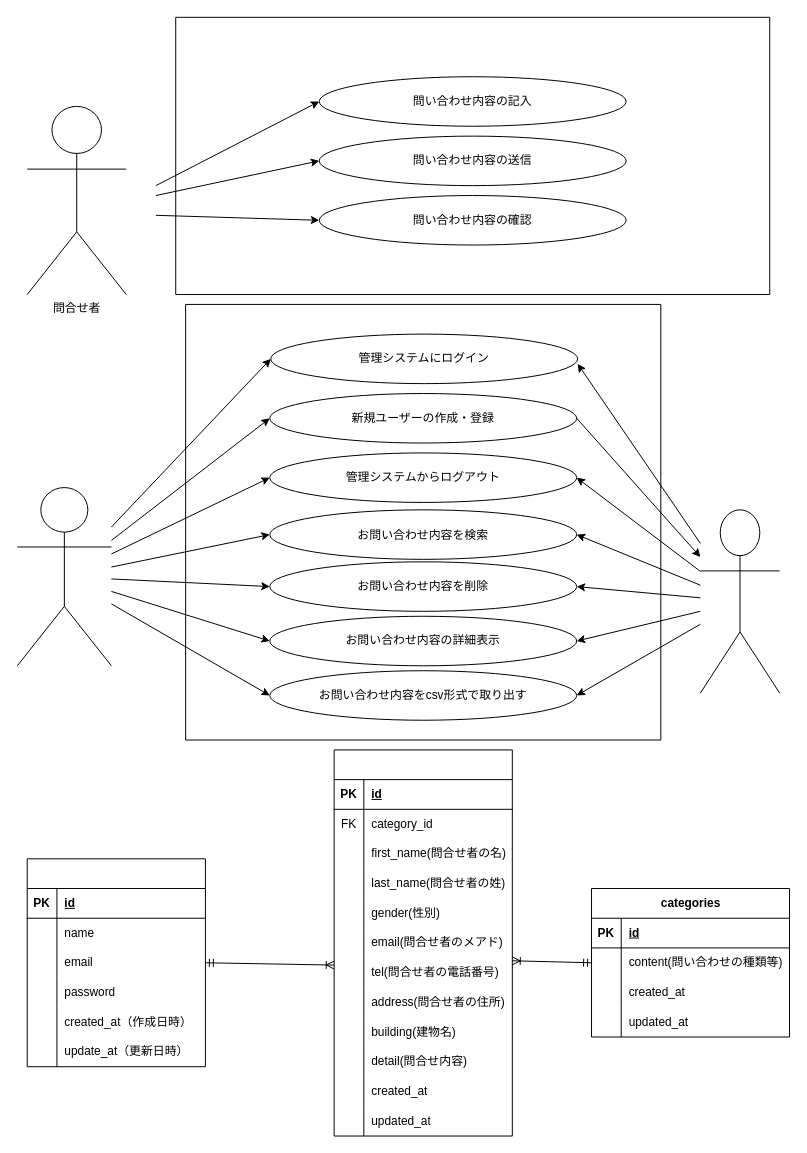
Image size: 807x1153. Some labels were removed from this diagram. The box of each missing label's shape, as (x1, y1, x2, y2) in pixels:
contacts: (333, 749, 512, 1136)
users: (26, 858, 205, 1067)
ユーザー: (16, 487, 111, 666)
問い合わせ管理システム: (185, 303, 661, 740)
問い合わせ送信システム: (175, 16, 770, 295)
新規管理者: (699, 509, 780, 693)
